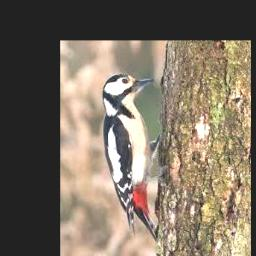Woodpecker: (103, 73, 173, 240)
